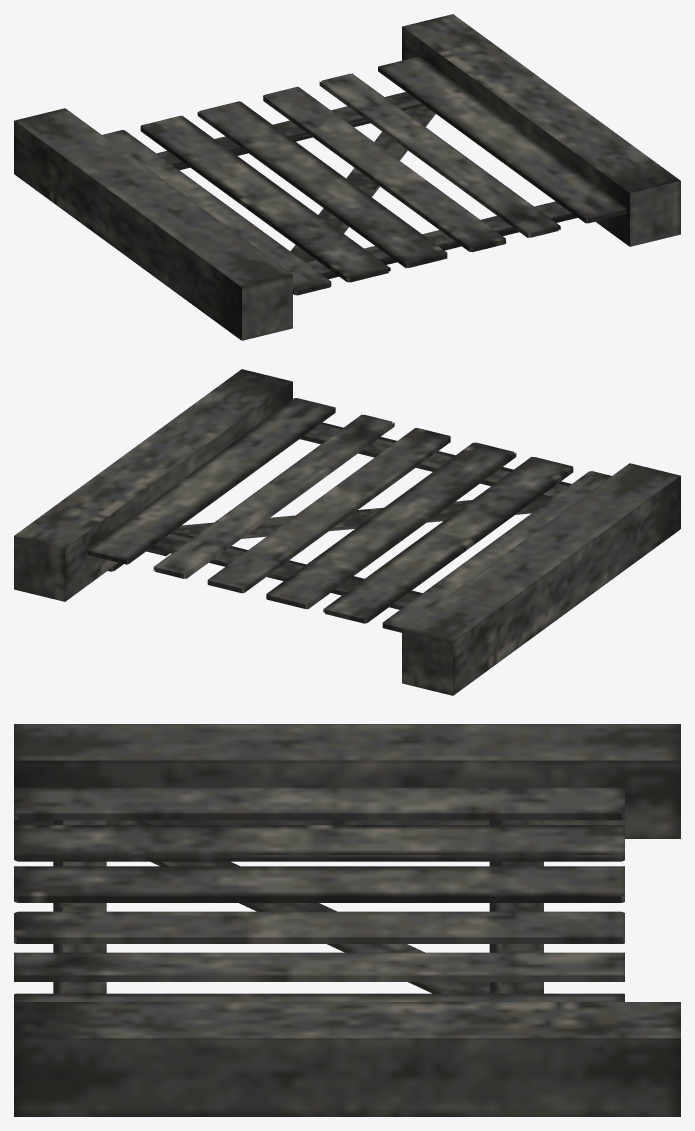
File: SM_EC_Fence_Gate_00.fbx
The picture shows the model from 3 angles, top to bottom: view 1: azimuth 30°, elevation 25°; view 2: azimuth 150°, elevation 25°; view 3: azimuth 270°, elevation 25°; orthographic projection. The views are drawn at different scales.
Parts seen in each view (by area): view 1: SM_EC_Fence_Gate_Door_00, SM_EC_Fence_Gate_00; view 2: SM_EC_Fence_Gate_Door_00, SM_EC_Fence_Gate_00; view 3: SM_EC_Fence_Gate_00, SM_EC_Fence_Gate_Door_00.
Part boxes in pixels (x1=…): SM_EC_Fence_Gate_Door_00: x1=102, y1=57, x2=627, y2=295; SM_EC_Fence_Gate_00: x1=14, y1=14, x2=680, y2=340; SM_EC_Fence_Gate_Door_00: x1=86, y1=398, x2=611, y2=632; SM_EC_Fence_Gate_00: x1=14, y1=369, x2=680, y2=695; SM_EC_Fence_Gate_00: x1=14, y1=724, x2=680, y2=1116; SM_EC_Fence_Gate_Door_00: x1=14, y1=787, x2=624, y2=1002.
Size of the model in its own units: 1.29 by 1.16 by 0.1648.
